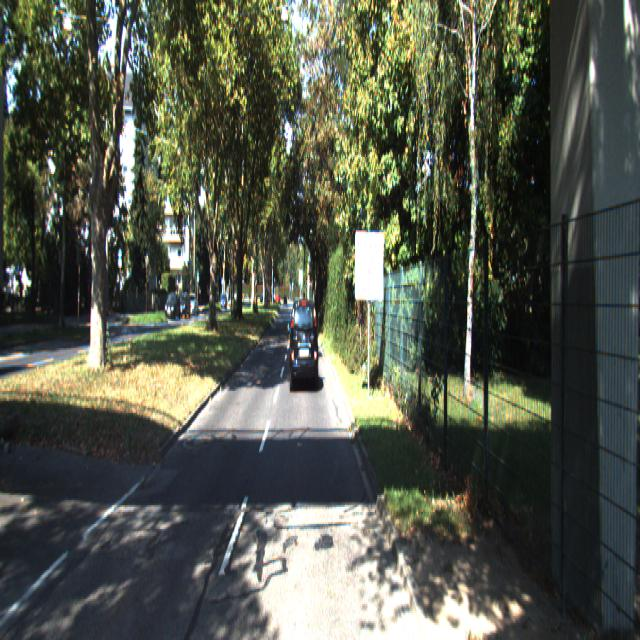Car: (290, 297, 320, 392)
